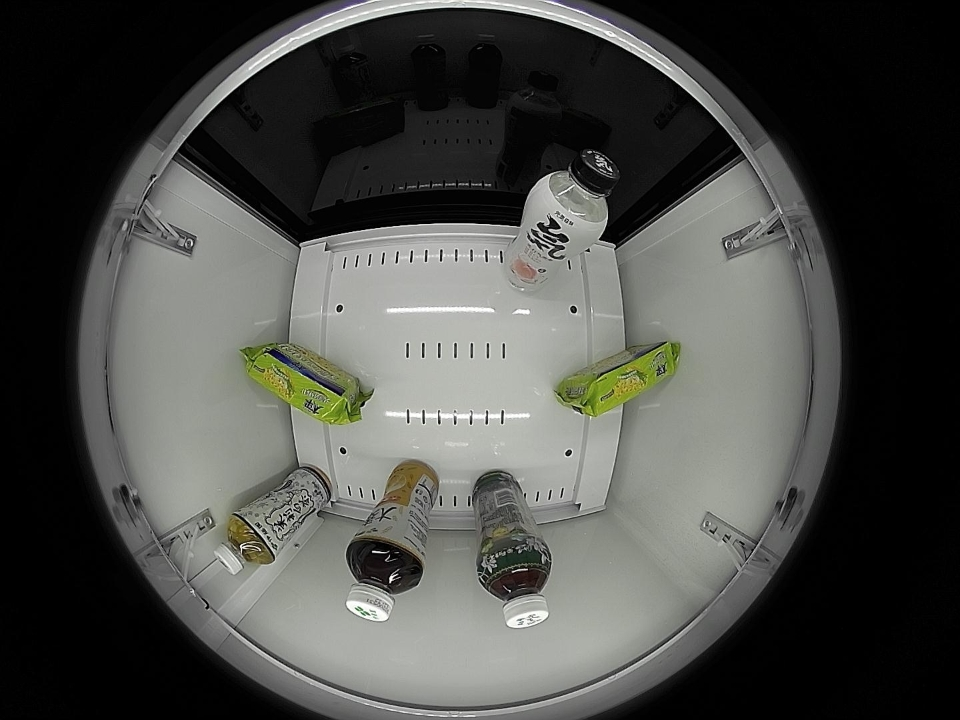baicha: (213, 511, 276, 576)
damaicha: (345, 538, 425, 623)
moliqingcha: (477, 544, 552, 630)
taipingshuda: (243, 346, 377, 425), (552, 341, 683, 418)
yuanqishui: (527, 148, 621, 242)
